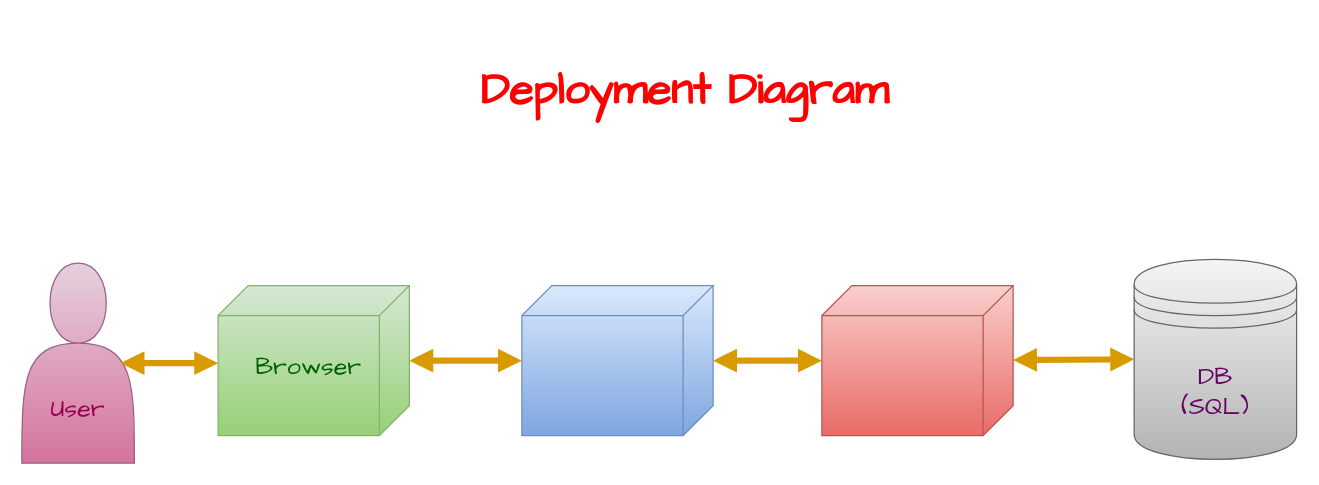
Some shapes in this 1319 by 485 pixel diagram are drawn without their labels. The shapes that lost their labels are listed below. From the top down, each one's centre as x and y in pixels, then its label:
At (617,360): "Client Side (angular 2)".
At (917,360): "Server (json api)".
